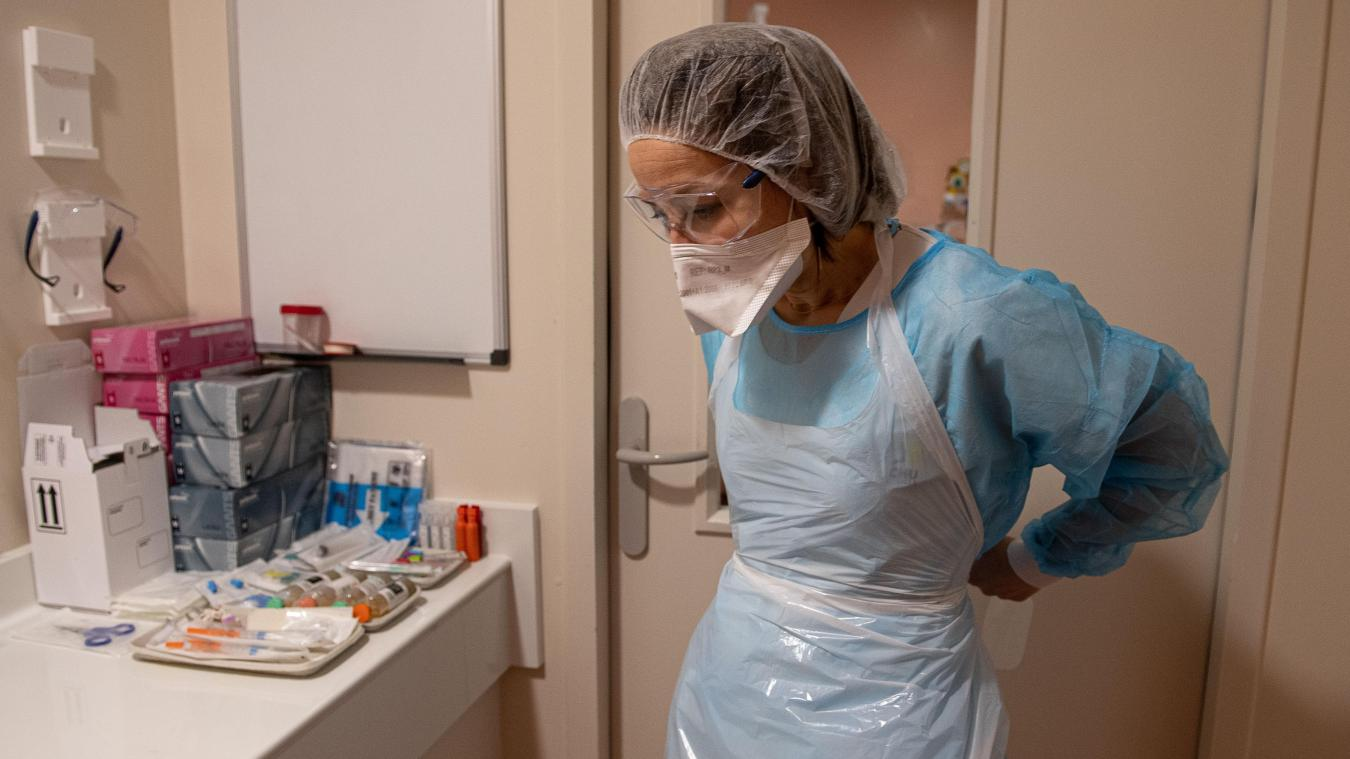with_mask: (651, 151, 831, 269)
